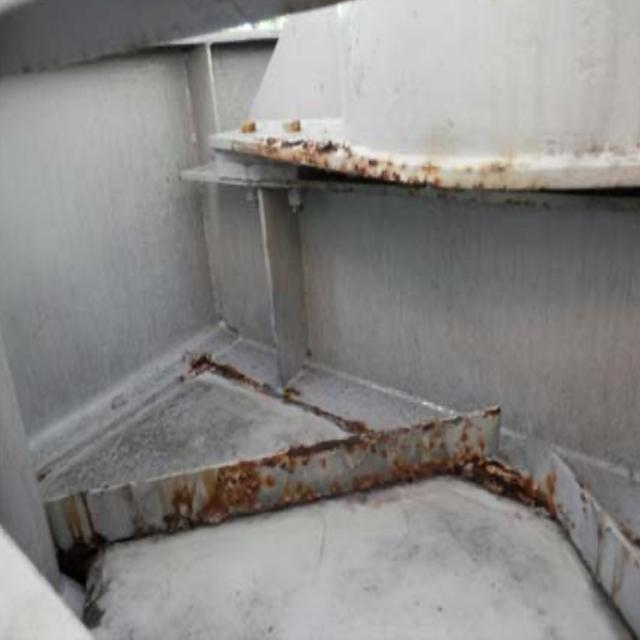corrosion: (77, 347, 609, 550), (247, 118, 527, 232)
